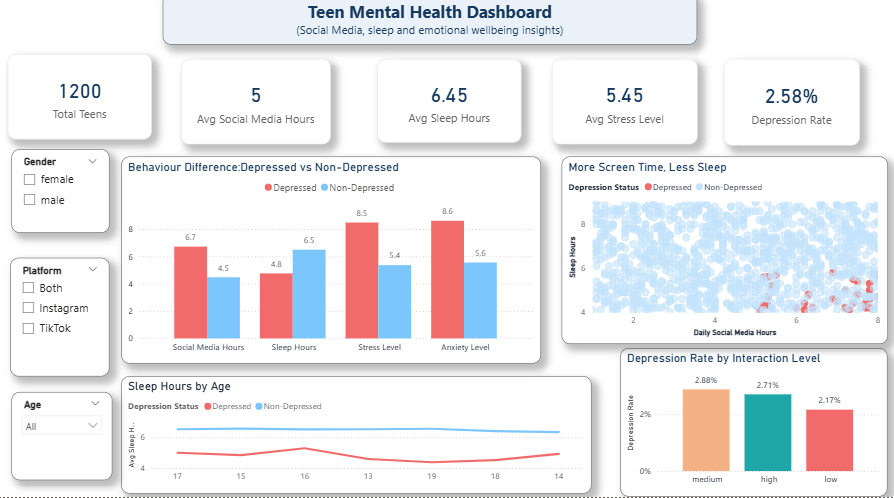

This screenshot's page, from the dashboard's own definition file:
{"tool":"powerbi","page":{"name":"Page 1","canvas":[1280,720],"ordinal":0},"visuals":[{"type":"card","fields":{"Values":["Sheet1.Total Teens"]},"box":[14,88,206,122],"z":7001},{"type":"card","fields":{"Values":["Sheet1.Avg Daily Social media Hours"]},"box":[262,94,214,122],"z":7002},{"type":"card","fields":{"Values":["Sheet1.Avg Sleep Hours"]},"box":[542,94,206,120],"z":7003},{"type":"card","fields":{"Values":["Sheet1.Avg stress Level"]},"box":[792,94,208,122],"z":7004},{"type":"card","fields":{"Values":["Sheet1.Depression %"]},"box":[1038,94,194,124],"z":7005},{"type":"clusteredColumnChart","title":"Behaviour Difference:Depressed vs Non-Depressed ","fields":{"Y":["MetricSelector.Metric Value Depressed","MetricSelector.Metric Value Non-Depressed"],"Category":["MetricSelector.Metric"]},"box":[176,234,600,296],"z":7006},{"type":"clusteredColumnChart","title":"Depression Rate by Interaction Level","fields":{"Category":["Sheet1.social_interaction_level"],"Y":["Sheet1.Depression %"]},"box":[890,508,382,212],"z":7007},{"type":"scatterChart","title":"More Screen Time, Less Sleep","fields":{"X":["Sum(Sheet1.daily_social_media_hours)"],"Y":["Sum(Sheet1.sleep_hours)"],"Series":["Sheet1.Depression Status"],"Category":["Sheet1.Teen ID"]},"box":[806,234,466,268],"z":7008},{"type":"lineChart","title":"Sleep Hours by Age","fields":{"Category":["Sheet1.age"],"Y":["Sheet1.Avg Sleep Hours"],"Series":["Sheet1.Depression Status"]},"box":[176,548,672,168],"z":7009},{"type":"slicer","fields":{"Values":["Sheet1.gender"]},"box":[20,224,140,120],"z":7010},{"type":"slicer","fields":{"Values":["Sheet1.age"]},"box":[20,570,144,126],"z":7011},{"type":"slicer","fields":{"Values":["Sheet1.platform_usage"]},"box":[18,378,142,170],"z":7012},{"type":"textbox","box":[236,0,764,74],"z":7013}]}

Visuals, with their boxes in screenshot pixels (x1, y1, x2, y2), scaled from the page's 1280x720 canvas onto the 894x498 screenshot:
card - Sheet1.Total Teens: {"left": 10, "top": 61, "right": 154, "bottom": 145}
card - Sheet1.Avg Daily Social media Hours: {"left": 183, "top": 65, "right": 332, "bottom": 149}
card - Sheet1.Avg Sleep Hours: {"left": 379, "top": 65, "right": 522, "bottom": 148}
card - Sheet1.Avg stress Level: {"left": 553, "top": 65, "right": 698, "bottom": 149}
card - Sheet1.Depression %: {"left": 725, "top": 65, "right": 860, "bottom": 151}
"Behaviour Difference:Depressed vs Non-Depressed " clusteredColumnChart: {"left": 123, "top": 162, "right": 542, "bottom": 367}
"Depression Rate by Interaction Level" clusteredColumnChart: {"left": 622, "top": 351, "right": 888, "bottom": 497}
"More Screen Time, Less Sleep" scatterChart: {"left": 563, "top": 162, "right": 888, "bottom": 347}
"Sleep Hours by Age" lineChart: {"left": 123, "top": 379, "right": 592, "bottom": 495}
slicer - Sheet1.gender: {"left": 14, "top": 155, "right": 112, "bottom": 238}
slicer - Sheet1.age: {"left": 14, "top": 394, "right": 115, "bottom": 481}
slicer - Sheet1.platform_usage: {"left": 13, "top": 261, "right": 112, "bottom": 379}
textbox: {"left": 165, "top": 0, "right": 698, "bottom": 51}
